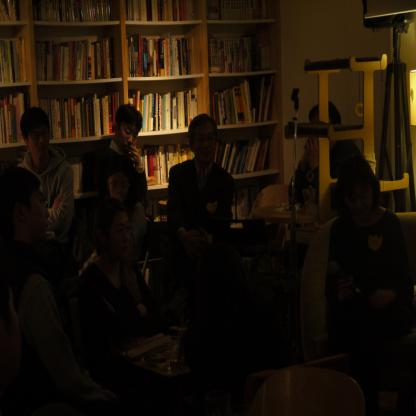book: (38, 36, 116, 82), (126, 88, 199, 132), (125, 33, 195, 78), (213, 79, 275, 127), (38, 99, 118, 134), (136, 142, 196, 185), (212, 138, 270, 174), (208, 36, 268, 70), (35, 0, 111, 22), (0, 94, 32, 144), (126, 0, 198, 20), (0, 35, 29, 80), (230, 185, 262, 225), (206, 0, 270, 19), (0, 0, 21, 22), (69, 162, 82, 193)
